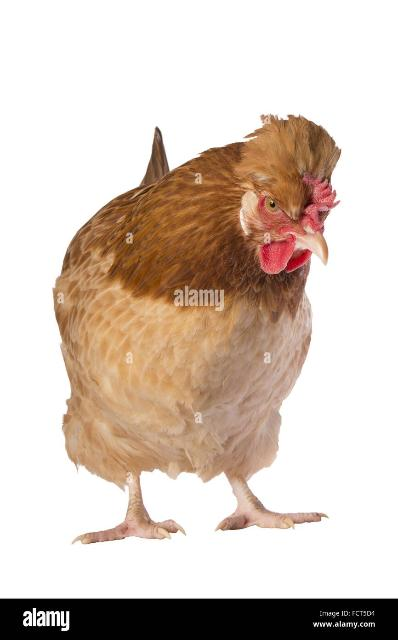Chicken: (54, 109, 346, 545)
